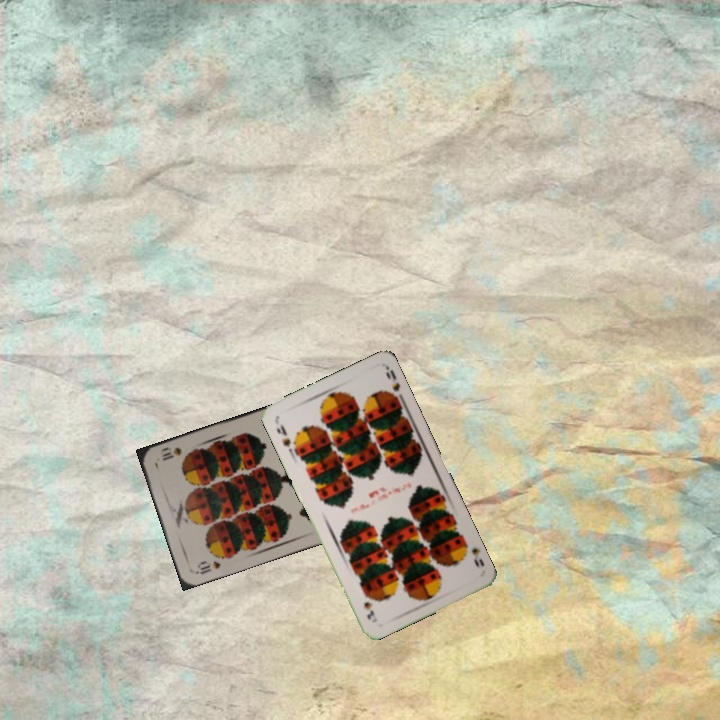S10: (192, 557, 223, 577)
S9: (458, 536, 487, 569), (272, 419, 293, 450)
